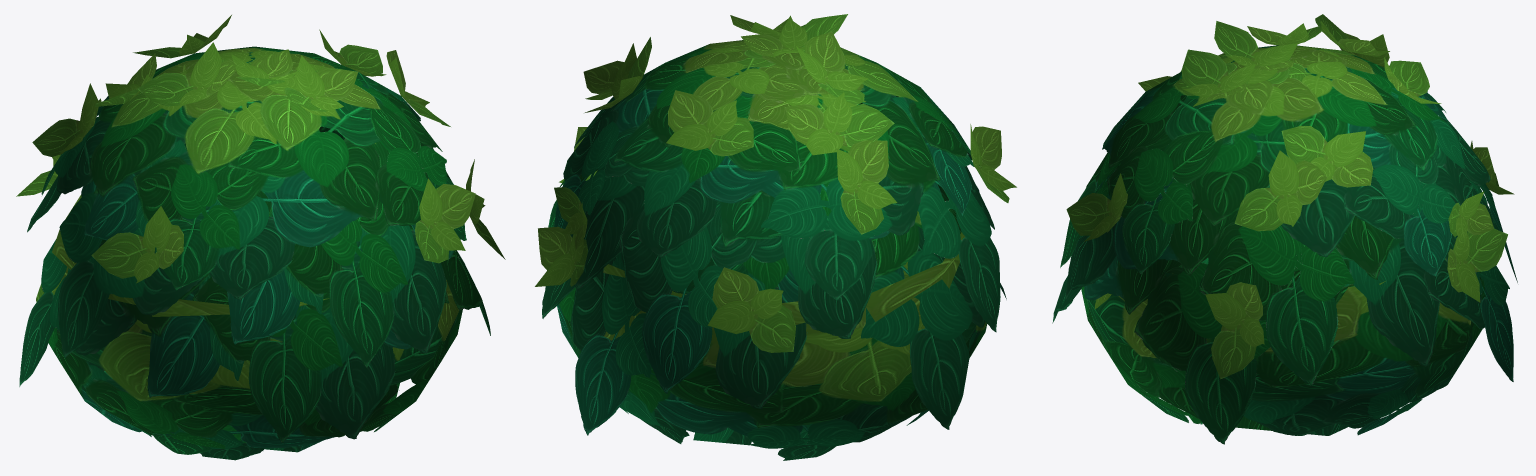
The model's file is bush2.fbx.
3 views of the same model, side by side, from view 1: azimuth 30°, elevation 25°; view 2: azimuth 150°, elevation 25°; view 3: azimuth 270°, elevation 25° (orthographic). The views are drawn at different scales.
Parts seen in each view (by area): view 1: pSphere19; view 2: pSphere19; view 3: pSphere19.
Boxes of the visible parts, x1,y1,x2,y2 form: pSphere19: (16, 15, 505, 460); pSphere19: (535, 14, 1016, 460); pSphere19: (1052, 14, 1517, 444).
Bounding box in the file's own units: 2.07 × 1.66 × 2.06.
